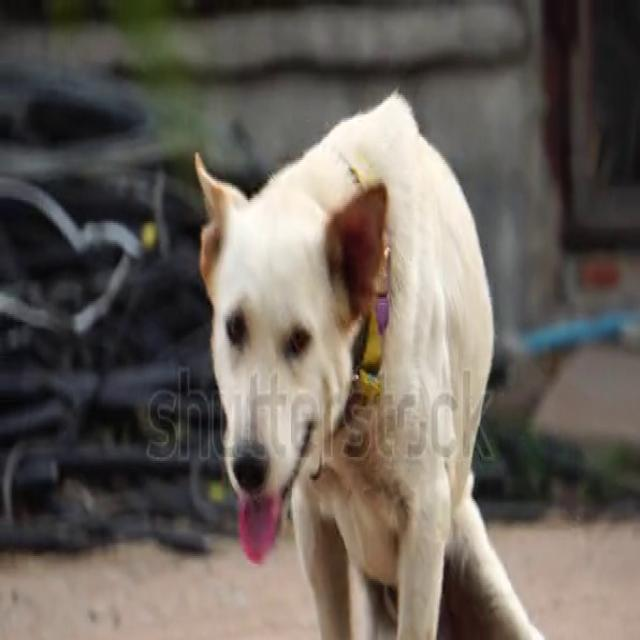normal_animals: (189, 86, 561, 638)
